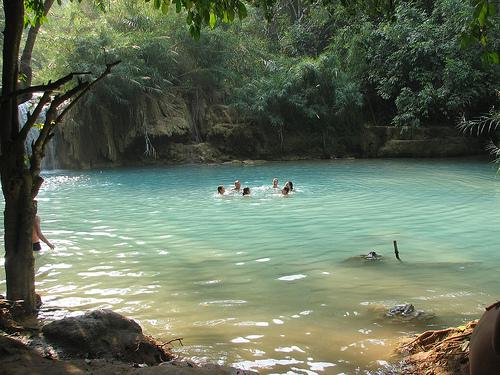swimmer: (216, 182, 228, 196), (231, 178, 242, 192), (278, 184, 289, 196), (243, 186, 255, 196), (284, 178, 294, 190), (271, 175, 280, 186)
